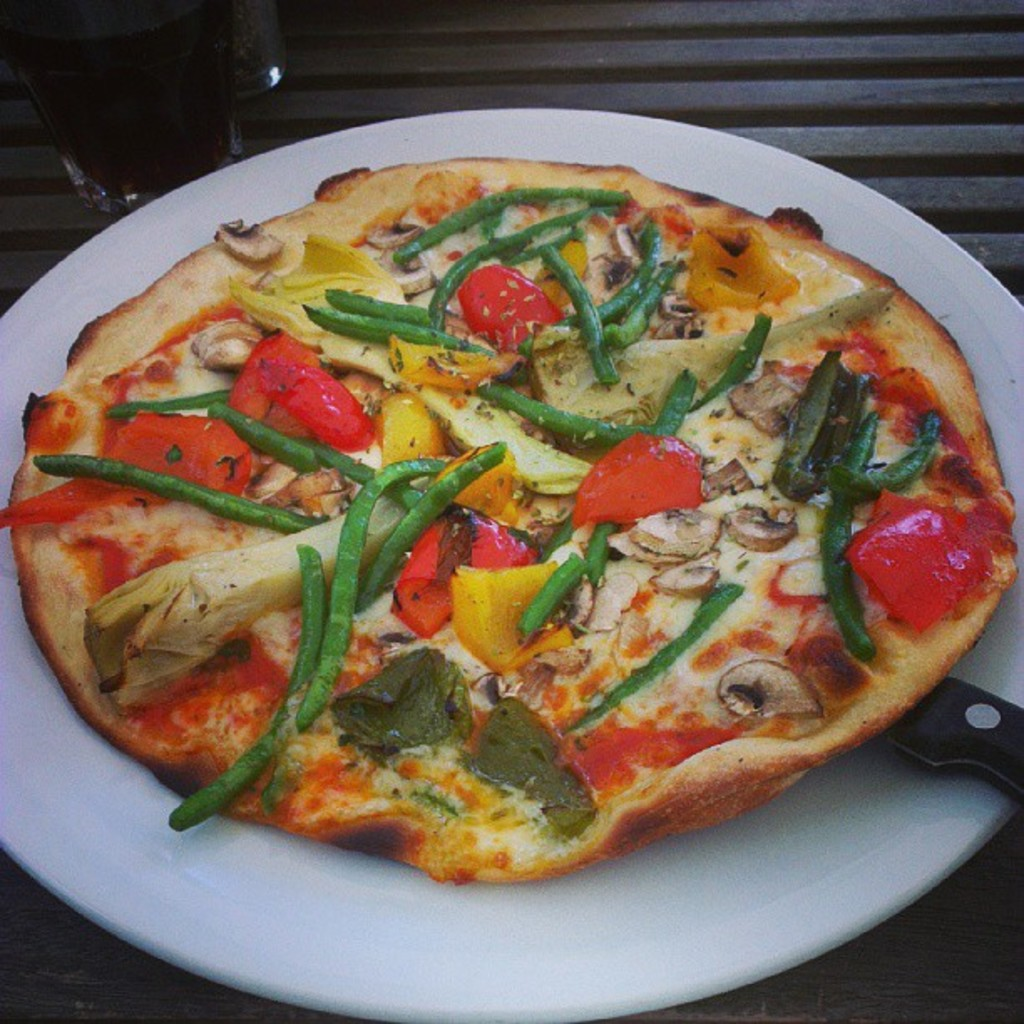Pizza: (20, 120, 1024, 890)
